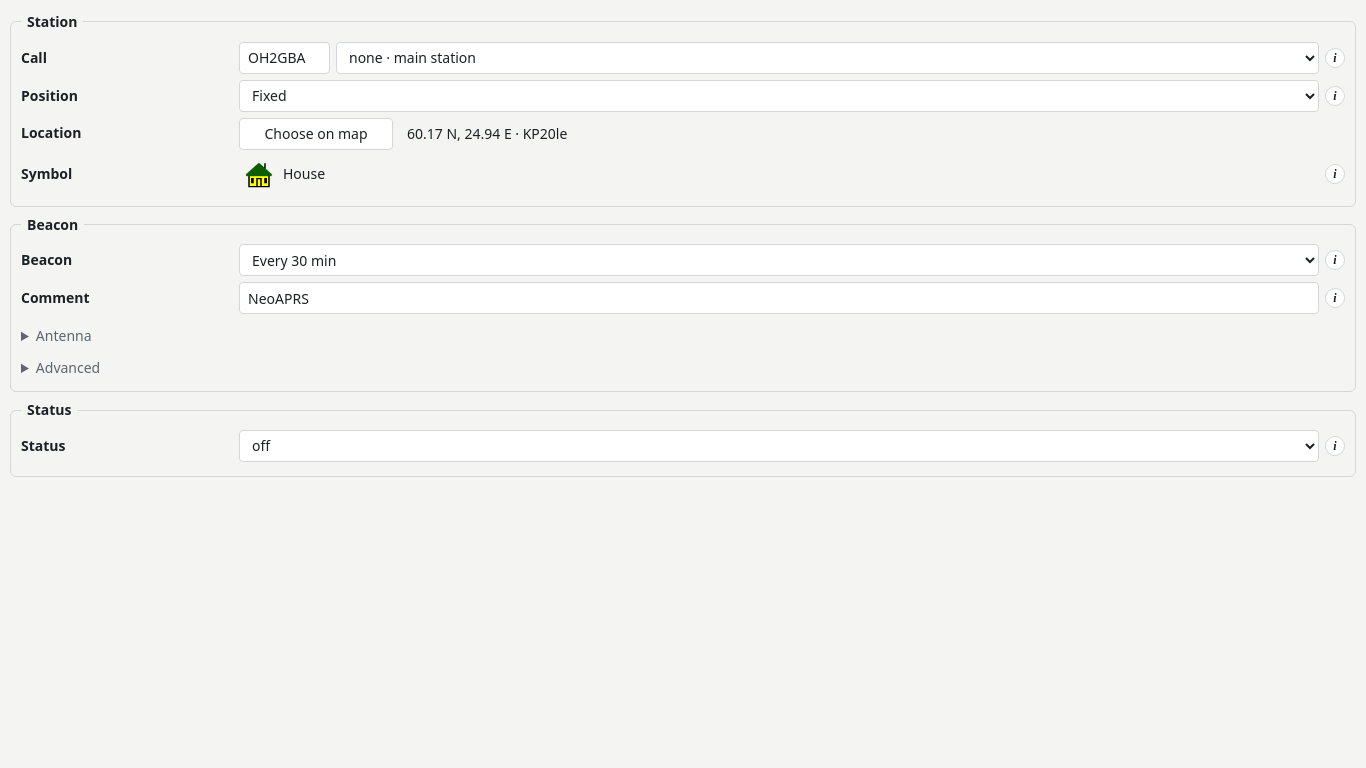
Test case: the Symbol field › is changed in the picker, which sets the table and the code underneath and applies at once
Click the button with id "set-station-symbol-change" at [259, 174], box left=239, top=156, right=1319, bottom=192
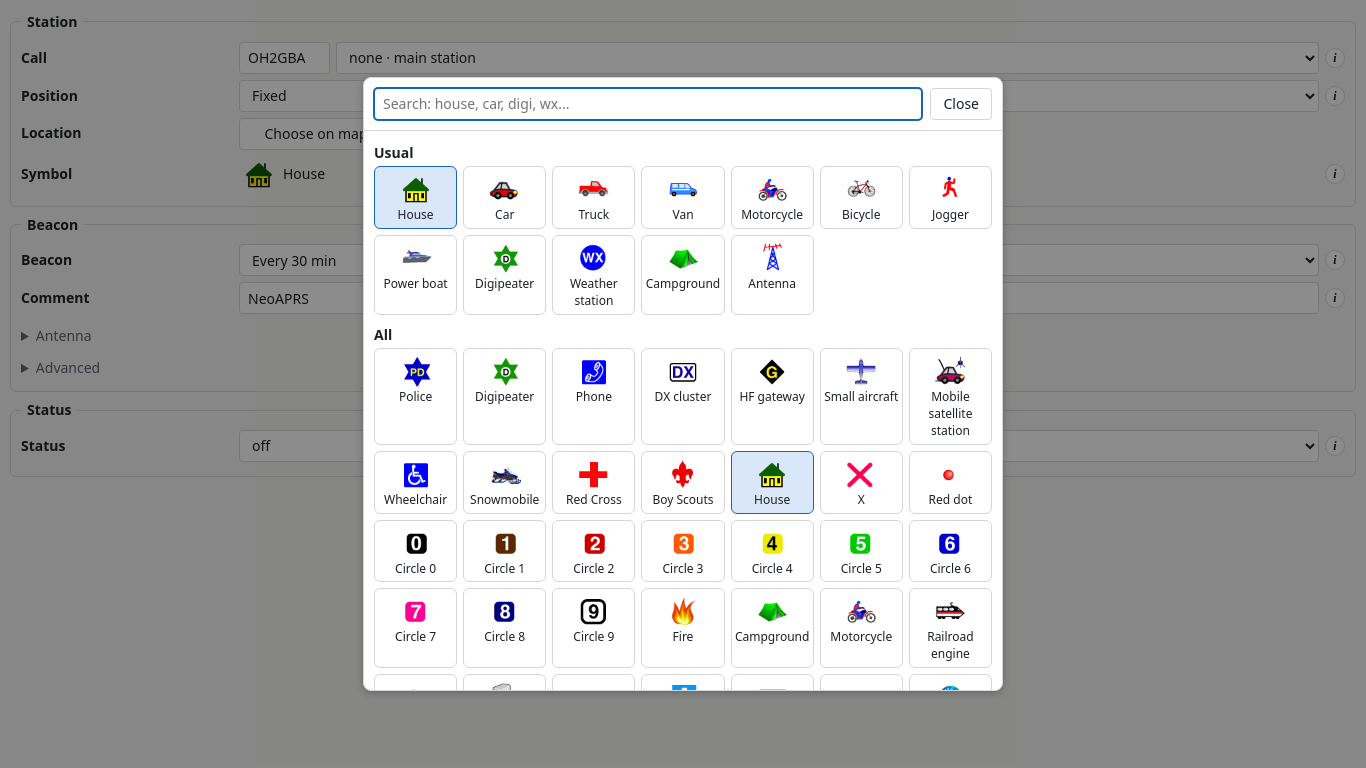
Now the dialog with class "sympick" is shown, box left=363, top=77, right=1003, bottom=691
Type "digi" into the search field with placeholder "Search: house, car, digi, wx..." at [648, 104], box left=374, top=88, right=922, bottom=120
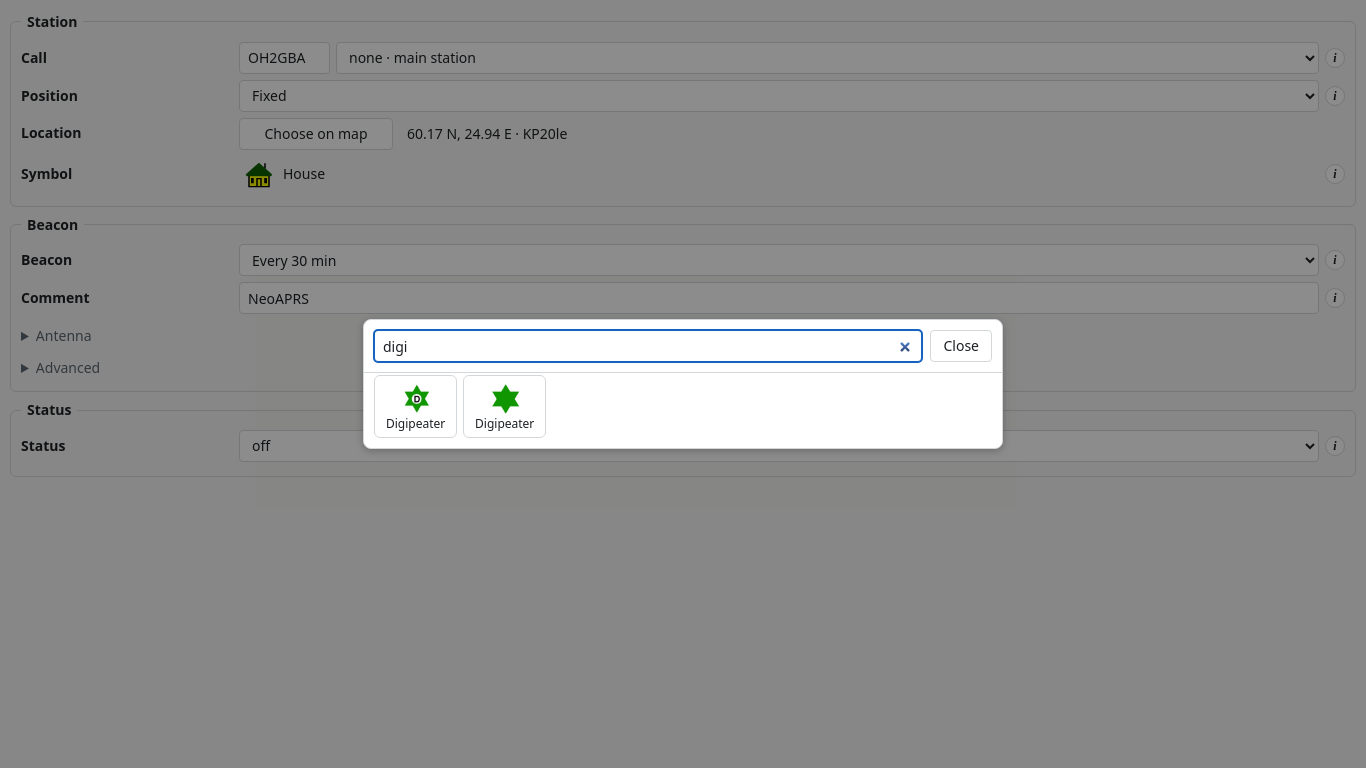
Now the elements with class "sympick-symbol" read "Digipeater", "Digipeater", in this order
Click the 2nd button with class "sympick-symbol" at [505, 406], box left=463, top=375, right=546, bottom=438
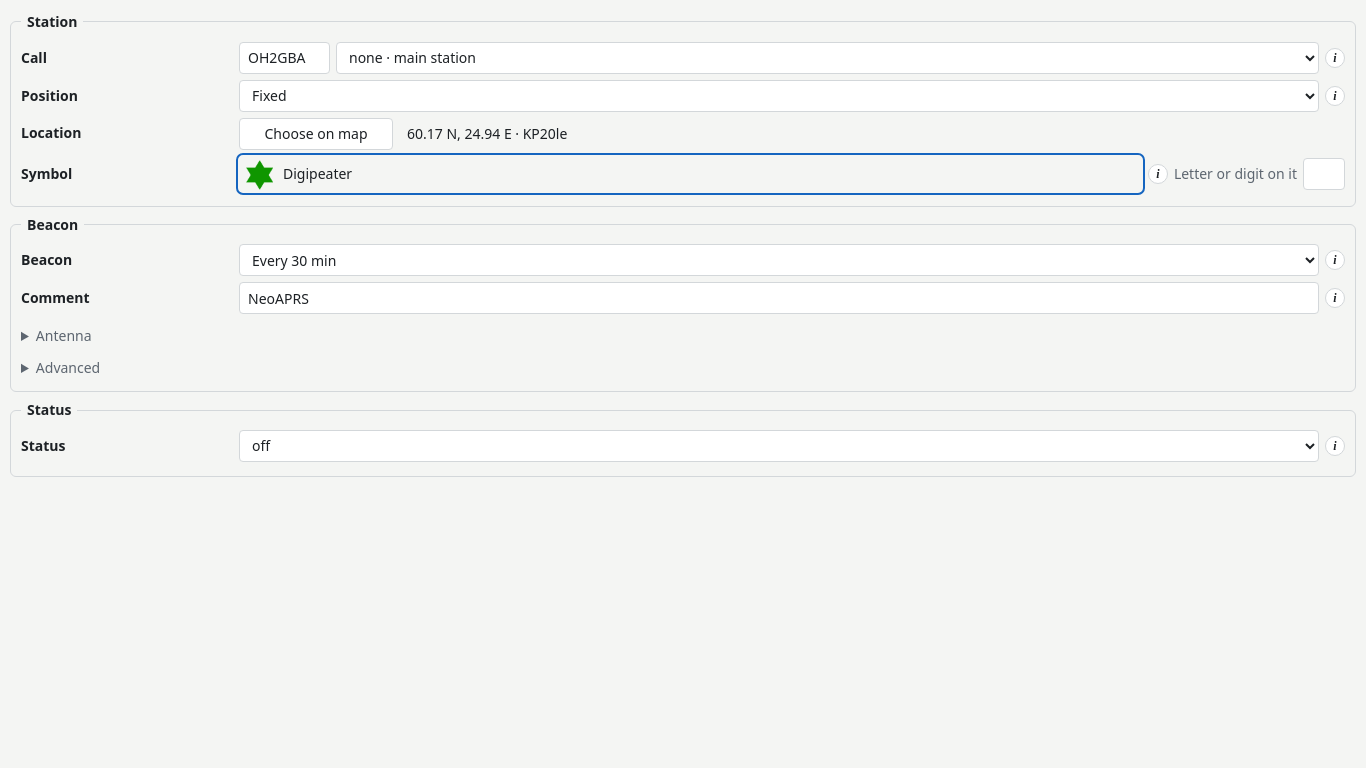
Now the text with class "symbolfield-name" reads "Digipeater", box left=283, top=164, right=352, bottom=183
